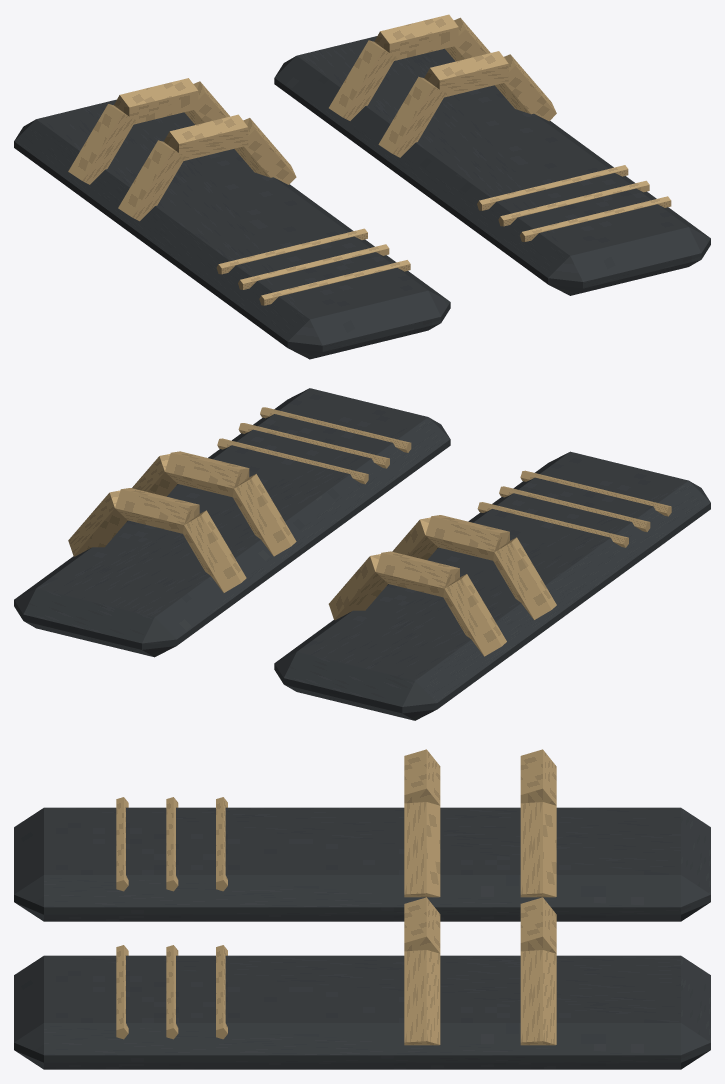
Rendered from straw_sandals.glb.
3 views of the same model, one above another, from view 1: azimuth 30°, elevation 25°; view 2: azimuth 150°, elevation 25°; view 3: azimuth 270°, elevation 25° (orthographic). The views are drawn at different scales.
Visible parts, largest first — view 1: block_shaped sole (×2), block_woven strap 0 (×4), block_woven strap 1 (×4), block_woven sole cord 0 (×6), block_woven strap 2 (×4); view 2: block_shaped sole (×2), block_woven strap 0 (×4), block_woven strap 1 (×4), block_woven strap 2 (×4), block_woven sole cord 0 (×6); view 3: block_shaped sole (×2), block_woven strap 2 (×4), block_woven strap 1 (×4), block_woven sole cord 0 (×6).
Part boxes in pixels (bbox=[...]): block_shaped sole (×2): bbox=[14, 36, 710, 359]; block_woven strap 0 (×4): bbox=[68, 40, 446, 221]; block_woven strap 1 (×4): bbox=[114, 14, 508, 161]; block_woven sole cord 0 (×6): bbox=[216, 165, 671, 305]; block_woven strap 2 (×4): bbox=[184, 17, 556, 184]; block_shaped sole (×2): bbox=[14, 388, 710, 720]; block_woven strap 0 (×4): bbox=[183, 474, 556, 656]; block_woven strap 1 (×4): bbox=[115, 451, 509, 597]; block_woven strap 2 (×4): bbox=[68, 454, 437, 620]; block_woven sole cord 0 (×6): bbox=[217, 407, 671, 547]; block_shaped sole (×2): bbox=[14, 807, 710, 1069]; block_woven strap 2 (×4): bbox=[404, 802, 556, 1045]; block_woven strap 1 (×4): bbox=[404, 749, 556, 953]; block_woven sole cord 0 (×6): bbox=[116, 797, 227, 1039].
Size of the model in its own units: 0.1926 by 0.0432 by 0.2302.
Materials: 1 (1 with a texture image).
